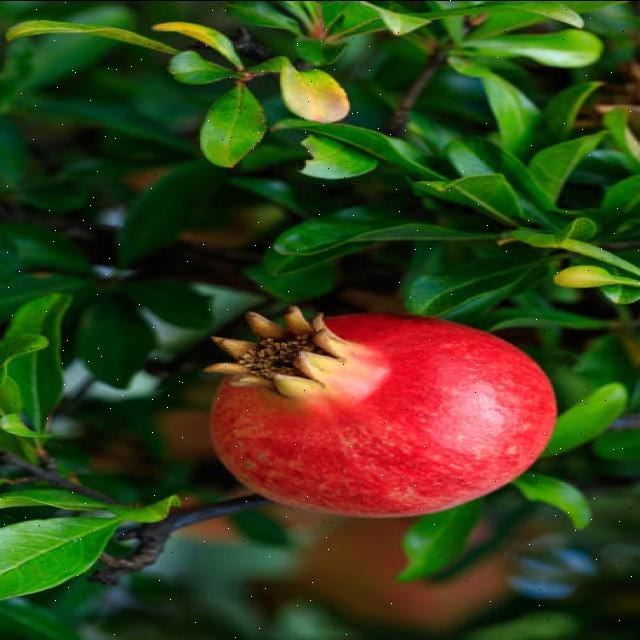Ripe: (200, 310, 565, 518)
